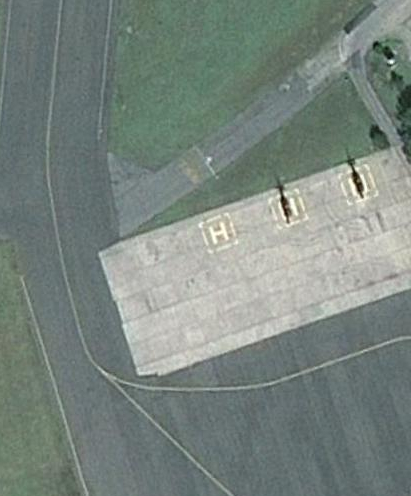heliport: (206, 221, 230, 245)
